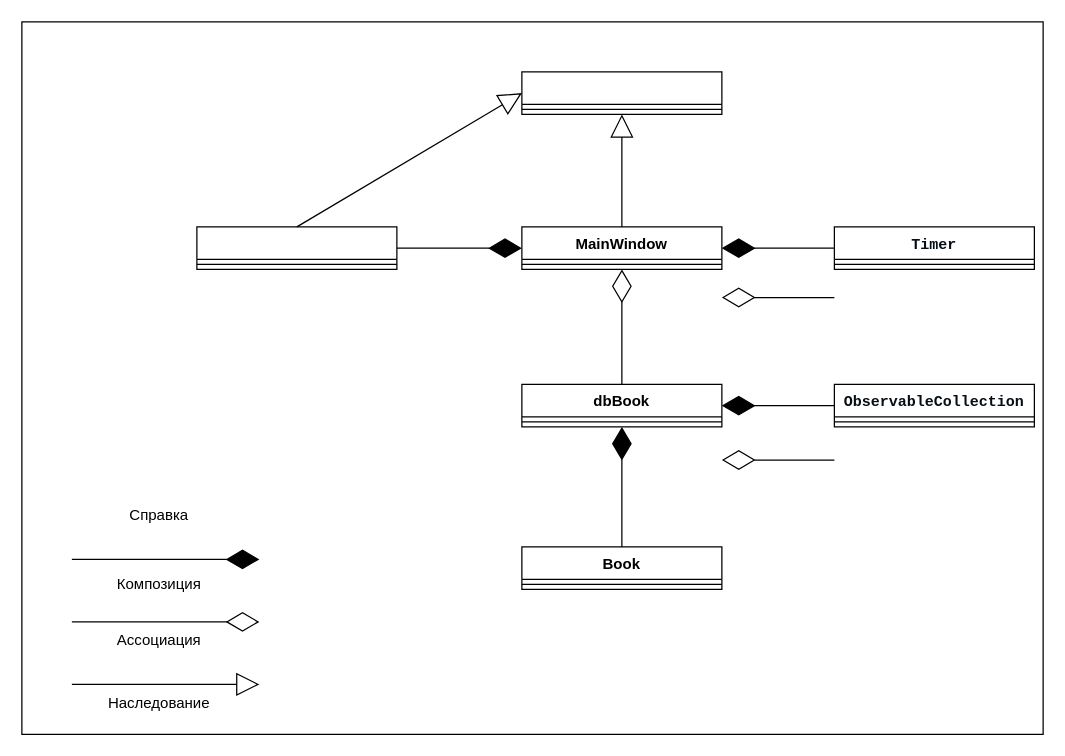
Some shapes in this 1065 by 756 pixel diagram are drawn without their labels. The shapes that lost their labels are listed below. From the top down, each one's centre as x and y in pixels, then its label:
(621,92): Window
(296,247): FormAddBook
